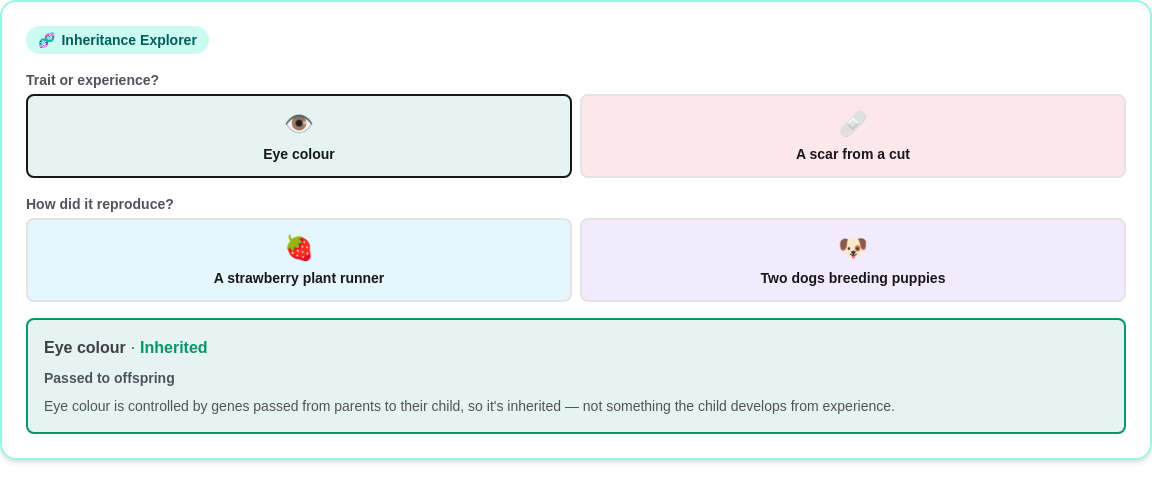
Test case: InheritanceExplorer › clicking the strawberry runner scenario shows Asexual reproduction, one parent identical
Click the button "🍓 A strawberry plant runner": [299, 260] box x1=26 y1=218 x2=572 y2=302
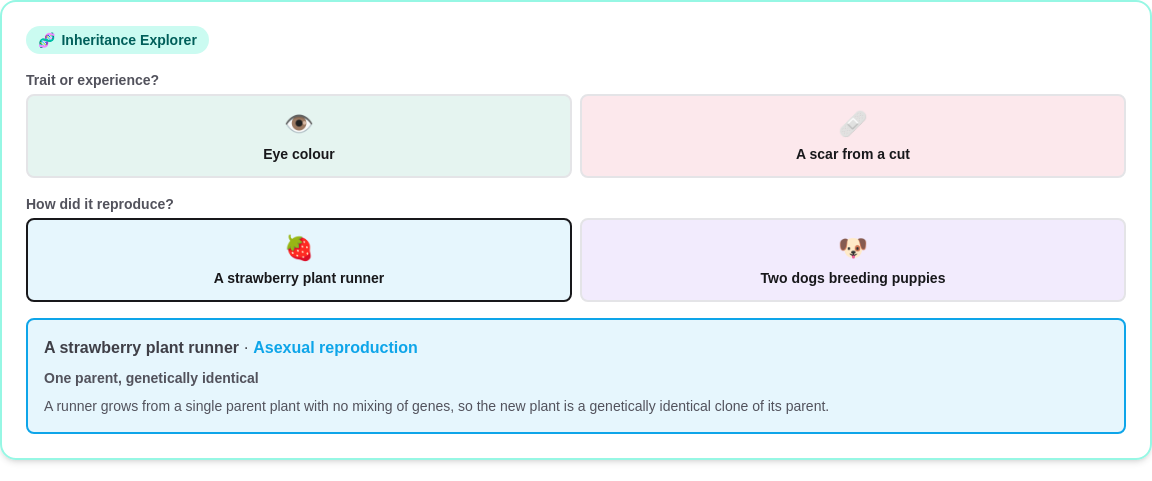
Now the text with test id "scenario-name" reads "A strawberry plant runner", box x1=44 y1=339 x2=239 y2=356
Now the text with test id "classification-label" reads "Asexual reproduction", box x1=253 y1=339 x2=418 y2=356
Now the text with test id "group-label" reads "One parent, genetically identical", box x1=44 y1=370 x2=259 y2=386
